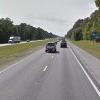Car: (38, 35, 66, 61)
